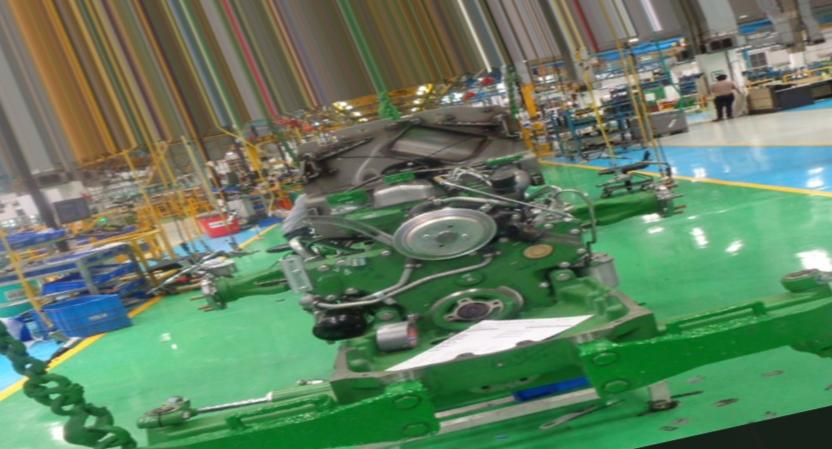engine: (29, 117, 832, 443)
